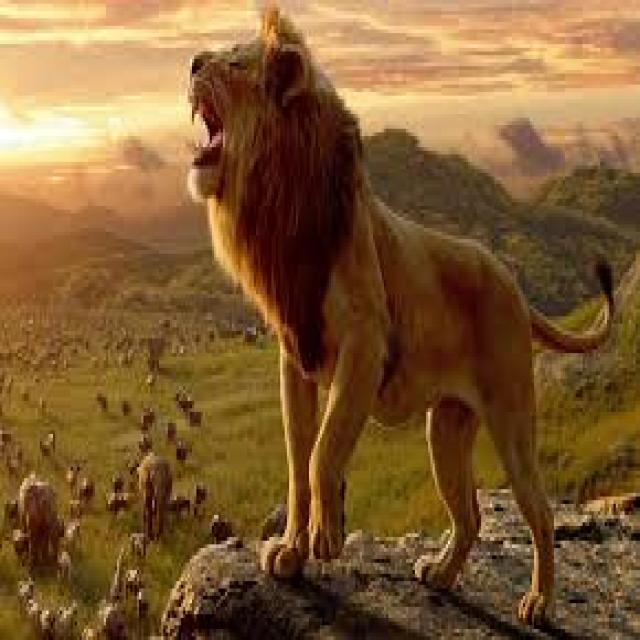Lion: (190, 25, 556, 617)
